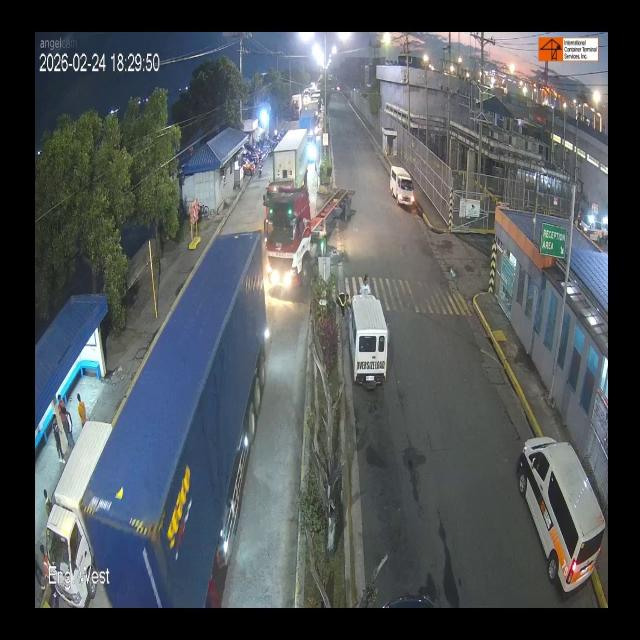car: (516, 436, 603, 592), (346, 290, 400, 396), (386, 159, 414, 215)
truck: (82, 233, 268, 604), (263, 181, 357, 283), (268, 129, 310, 190)
